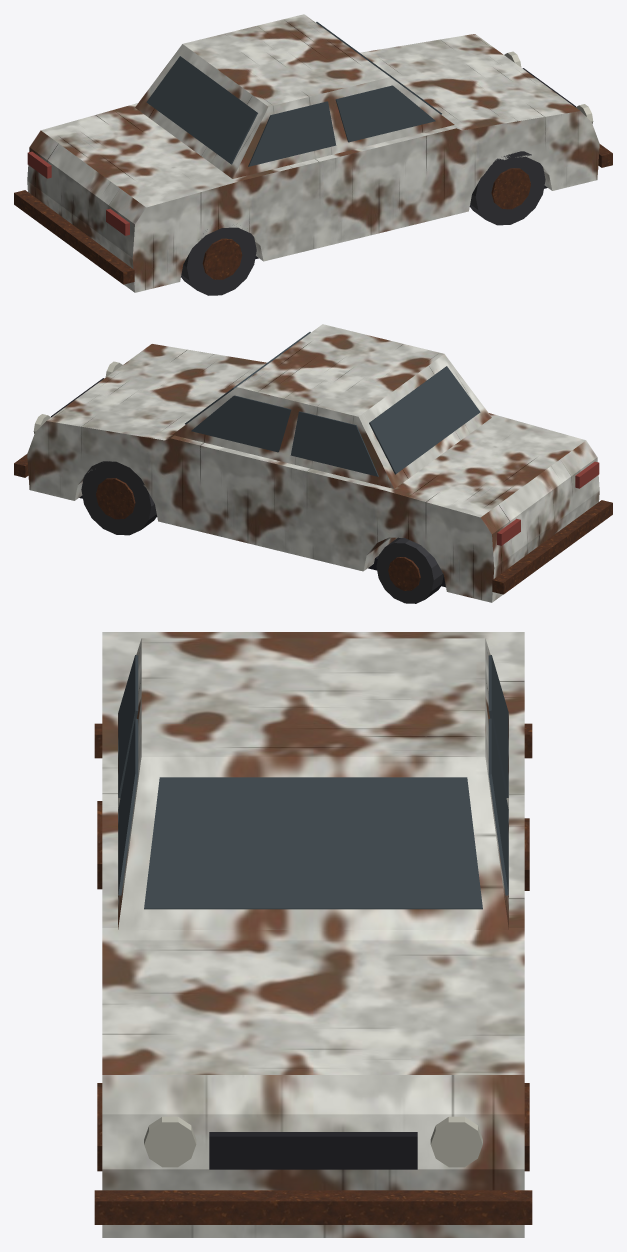
Rendered from car_sedan_white.glb.
3 renders of one model, top to bottom at view 1: azimuth 30°, elevation 25°; view 2: azimuth 150°, elevation 25°; view 3: azimuth 270°, elevation 25°, orthographic. The views are drawn at different scales.
Visible parts, largest first — view 1: car_sedan_white; view 2: car_sedan_white; view 3: car_sedan_white.
Boxes of the visible parts, x1,y1,x2,y2 form: car_sedan_white: (14,14,612,295); car_sedan_white: (14,324,612,603); car_sedan_white: (94,632,532,1237).
Bounding box in the file's own units: 4.34 × 1.42 × 1.68.
Materials: 7 (2 with a texture image).
